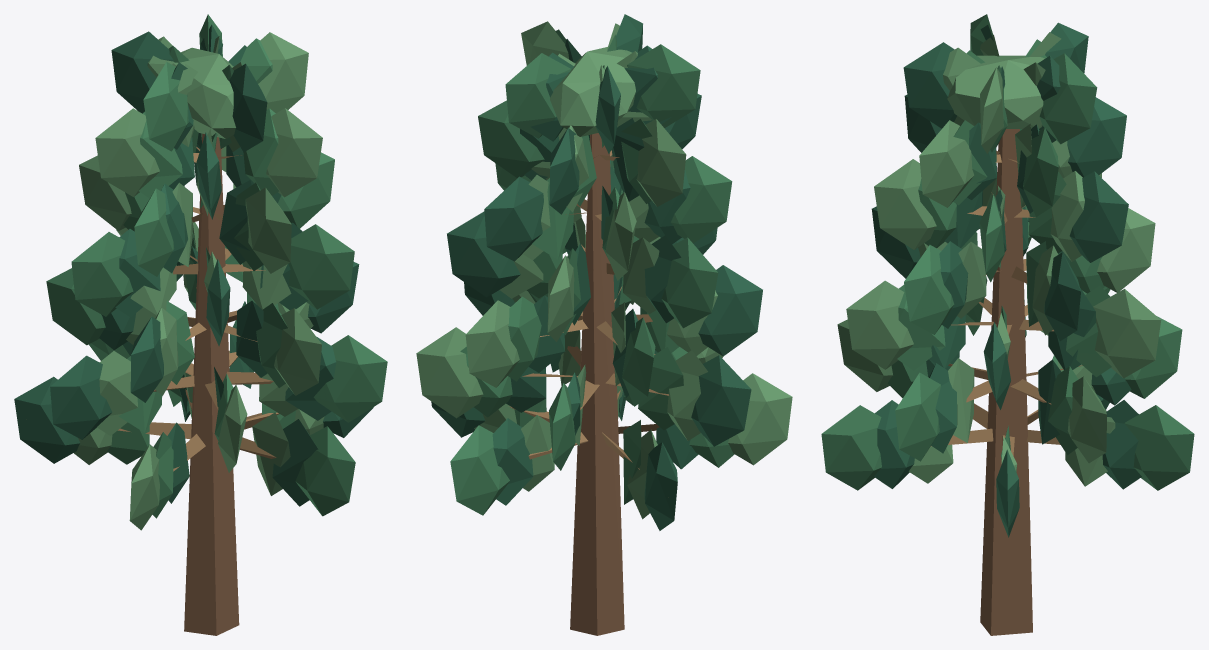
File: tree_pine_a.glb
3 views of the same model, side by side, from view 1: azimuth 30°, elevation 25°; view 2: azimuth 150°, elevation 25°; view 3: azimuth 270°, elevation 25° (orthographic).
Visible parts, largest first — view 1: Tree_Pine_A; view 2: Tree_Pine_A; view 3: Tree_Pine_A.
Part boxes in pixels (x1,y1,x2,y2): Tree_Pine_A: (14,14,387,635); Tree_Pine_A: (416,14,792,635); Tree_Pine_A: (821,14,1194,635).
Bounding box in the file's own units: 9.64 × 16.48 × 9.51.
